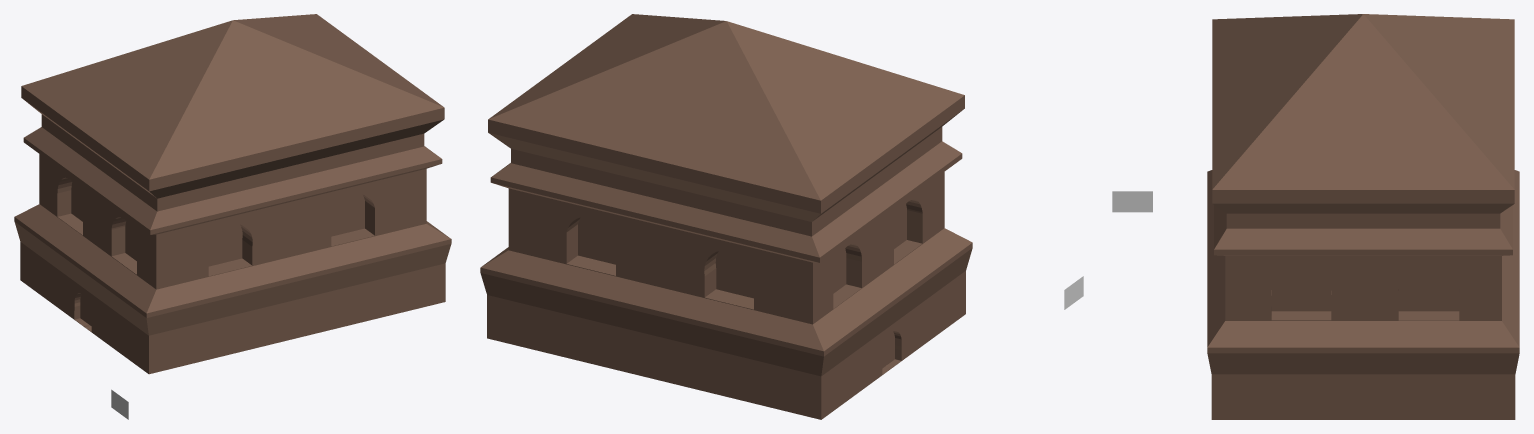
File: towncenterHittites.fbx
3 renders of one model, left to right at view 1: azimuth 30°, elevation 25°; view 2: azimuth 150°, elevation 25°; view 3: azimuth 270°, elevation 25°, orthographic. The views are drawn at different scales.
Visible parts, largest first — view 1: Plano; view 2: Plano; view 3: Plano, Plano.001.
Part boxes in pixels (x1,y1,x2,y2): Plano: [14, 14, 451, 374]; Plano: [480, 14, 972, 419]; Plano: [1207, 14, 1519, 419]; Plano.001: [1112, 191, 1152, 212].
Size of the model in its own units: 979 by 697 by 804.
